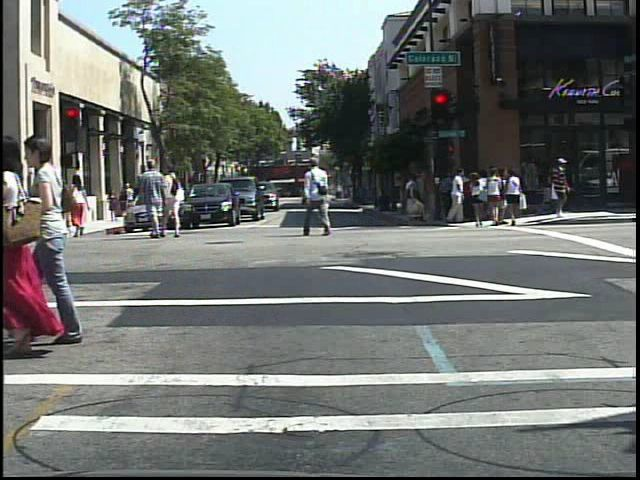person: (24, 127, 99, 348), (0, 129, 68, 364), (302, 152, 337, 242), (140, 155, 173, 243), (544, 154, 576, 219), (35, 167, 62, 244), (66, 168, 94, 242), (166, 160, 187, 240), (469, 171, 488, 231)
